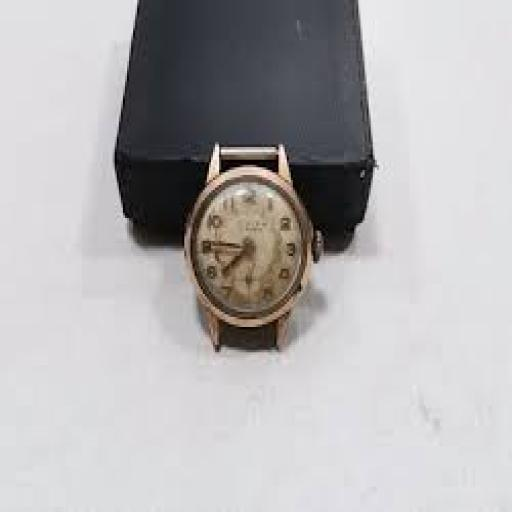KolSaati: (153, 124, 336, 384)
